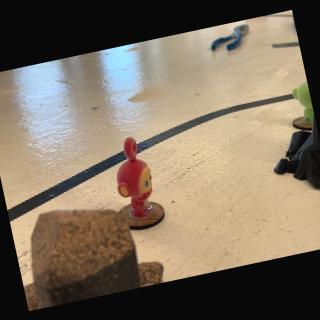teletubby: (116, 137, 152, 218), (292, 81, 313, 123)
